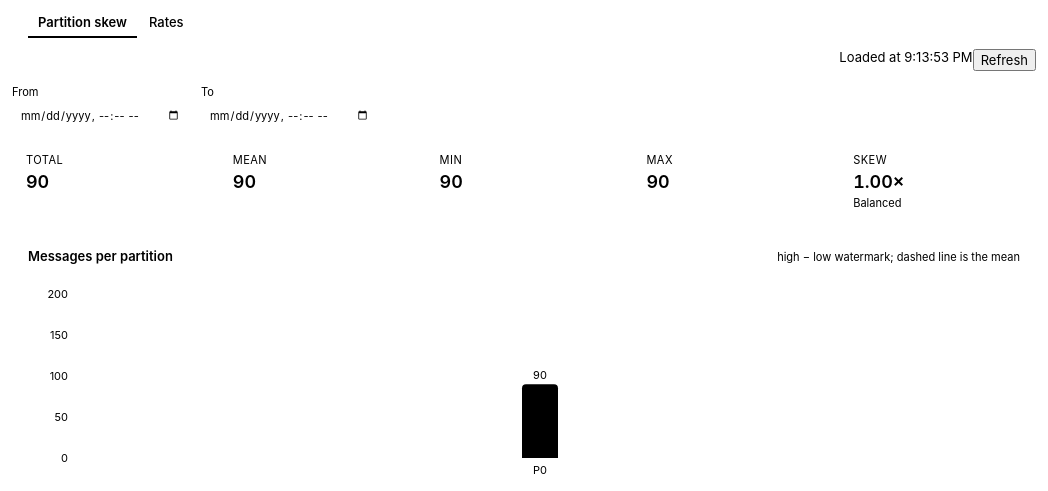
Test: TopicMetricsTab › From / To window › does not ask the broker when To is not after From, and says why
The image size is (1048, 491).
Type "2026-01-02T00:00" into the field labelled "From" at point(100, 116), box [12,103,189,129]
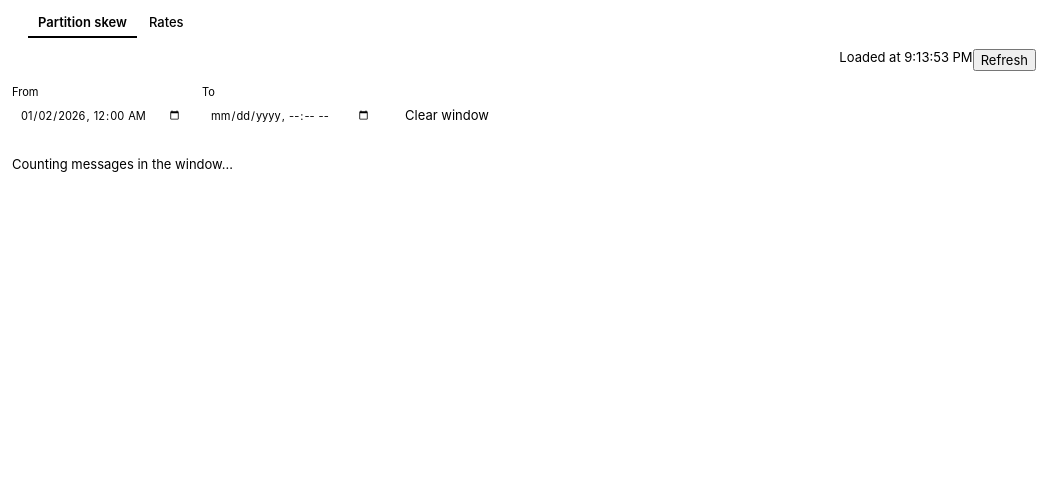
Type "2026-01-01T00:00" into the field labelled "To" at point(290, 116), box [202,103,379,129]
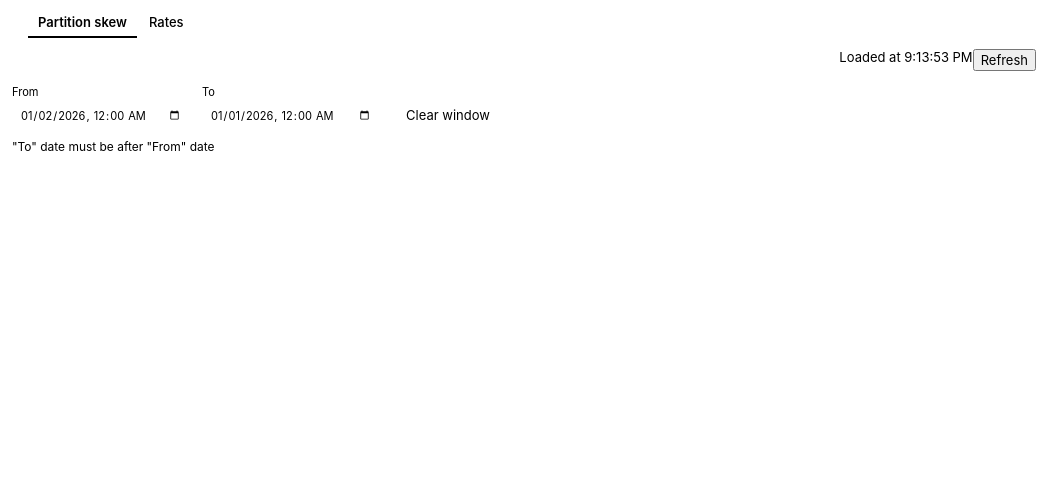
Result: the message reads "\"To\" date must be after \"From\" date" at [12,139,214,154]
